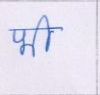i_matra: (39, 15, 53, 52)
